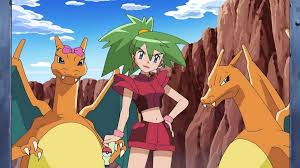charizard: (11, 34, 130, 168), (200, 45, 293, 168)
